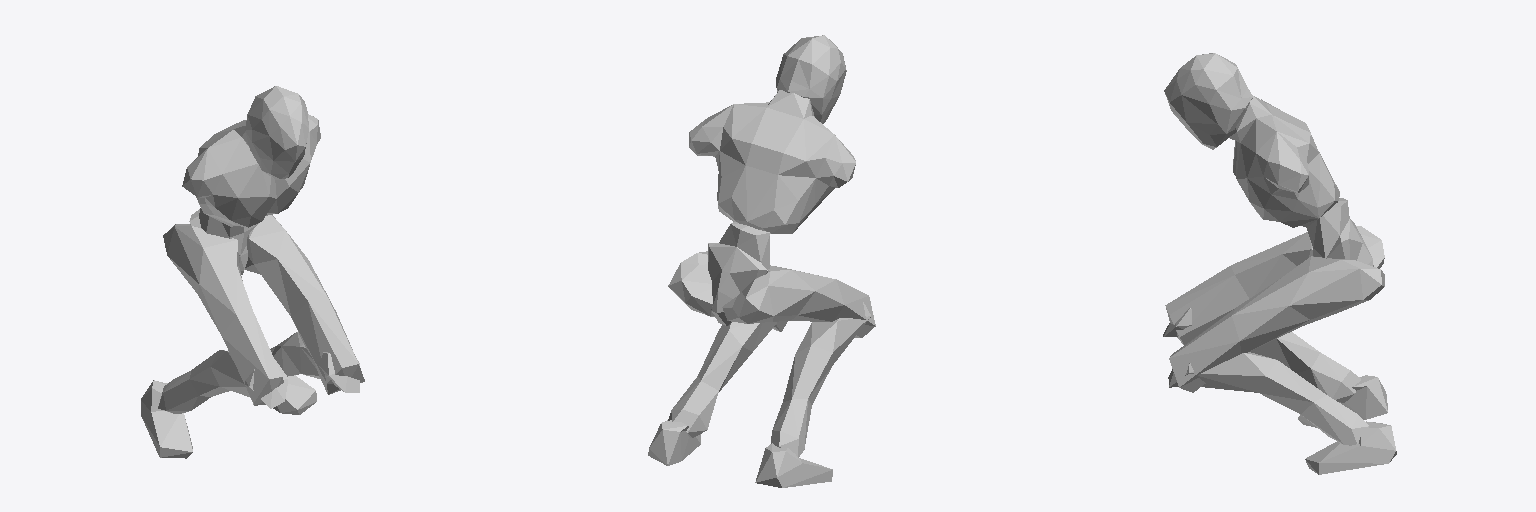
File: filth58.obj
3 views of the same model, side by side, from view 1: azimuth 30°, elevation 25°; view 2: azimuth 150°, elevation 25°; view 3: azimuth 270°, elevation 25° (orthographic).
Parts seen in each view (by area): view 1: Melee_Husk; view 2: Melee_Husk; view 3: Melee_Husk.
Boxes of the visible parts, x1,y1,x2,y2 form: Melee_Husk: [141, 86, 364, 458]; Melee_Husk: [648, 35, 875, 487]; Melee_Husk: [1163, 53, 1396, 474].
Size of the model in its own units: 22.17 by 51.76 by 27.89.